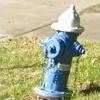a fire hydrant: (37, 7, 84, 97)
